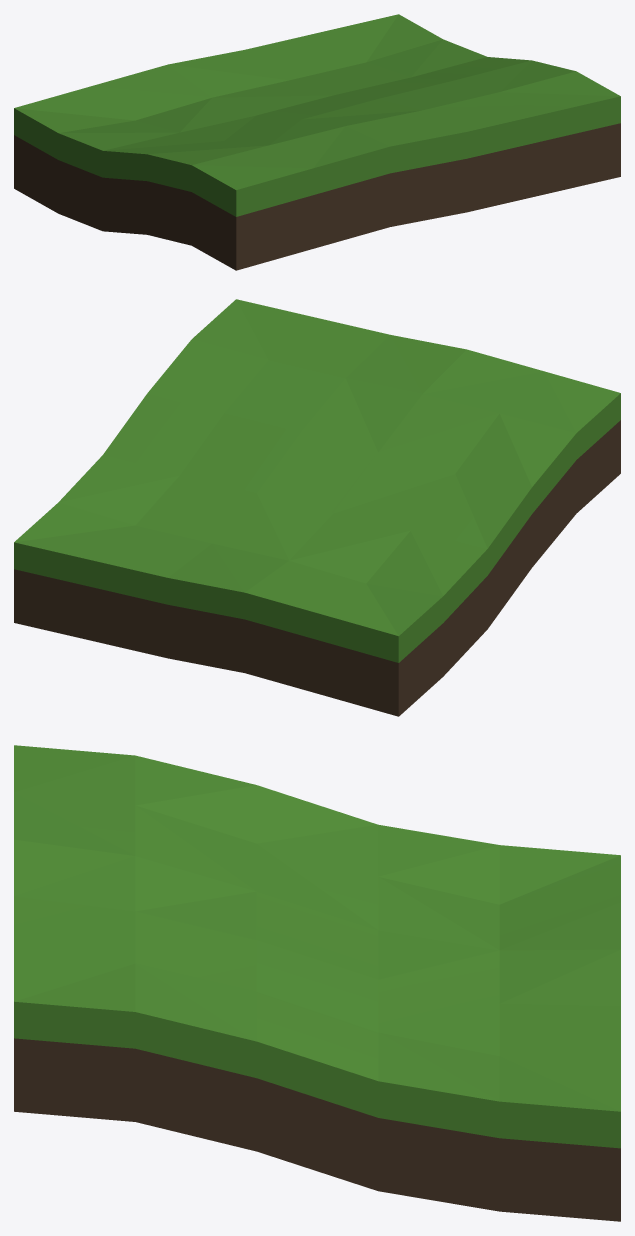
File: terrain-world-slope1.glb
3 renders of one model, top to bottom at view 1: azimuth 30°, elevation 25°; view 2: azimuth 150°, elevation 25°; view 3: azimuth 270°, elevation 25°, orthographic. The views are drawn at different scales.
Parts seen in each view (by area): view 1: terrain-world-slope1; view 2: terrain-world-slope1; view 3: terrain-world-slope1.
Boxes of the visible parts, <box> form: terrain-world-slope1: <box>14,14,620,270</box>; terrain-world-slope1: <box>14,299,620,716</box>; terrain-world-slope1: <box>14,745,620,1221</box>.
Size of the model in its own units: 30 by 12.45 by 30.
Materials: 1 (1 with a texture image).
